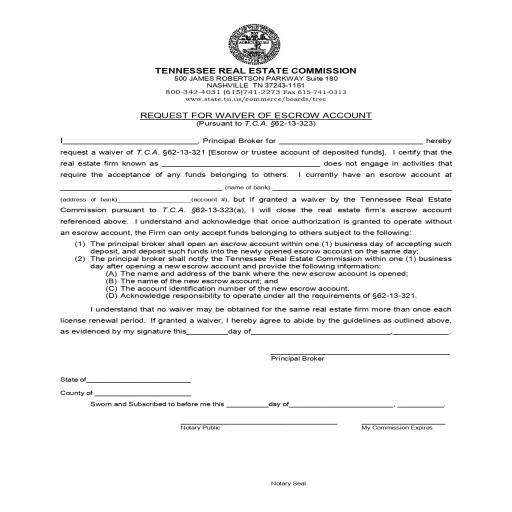Address: (59, 194, 117, 204)
check_box: (179, 424, 222, 432)
date: (358, 425, 458, 432)
free_text: (269, 354, 325, 362), (59, 388, 93, 399), (60, 374, 88, 384)
